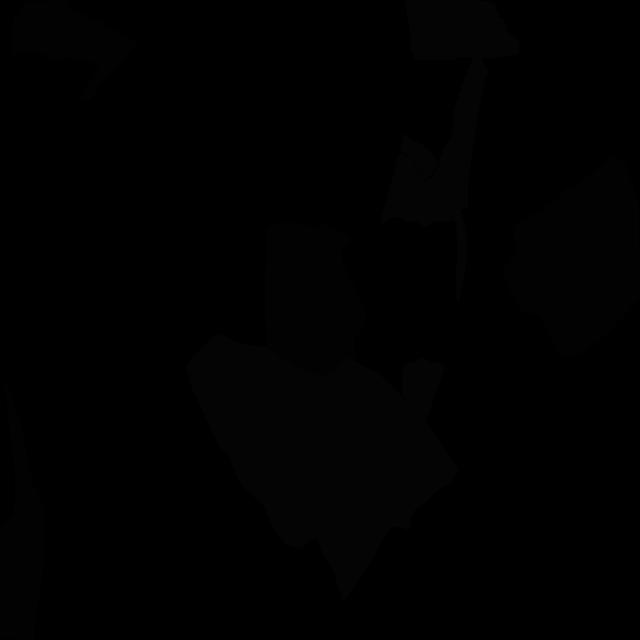cardboard: (502, 156, 640, 357), (265, 221, 366, 375), (11, 0, 138, 103), (0, 384, 45, 640)
soft_plastic: (185, 334, 458, 601), (380, 58, 488, 227), (404, 0, 520, 60), (402, 358, 446, 418), (400, 134, 439, 181), (451, 209, 467, 304)
